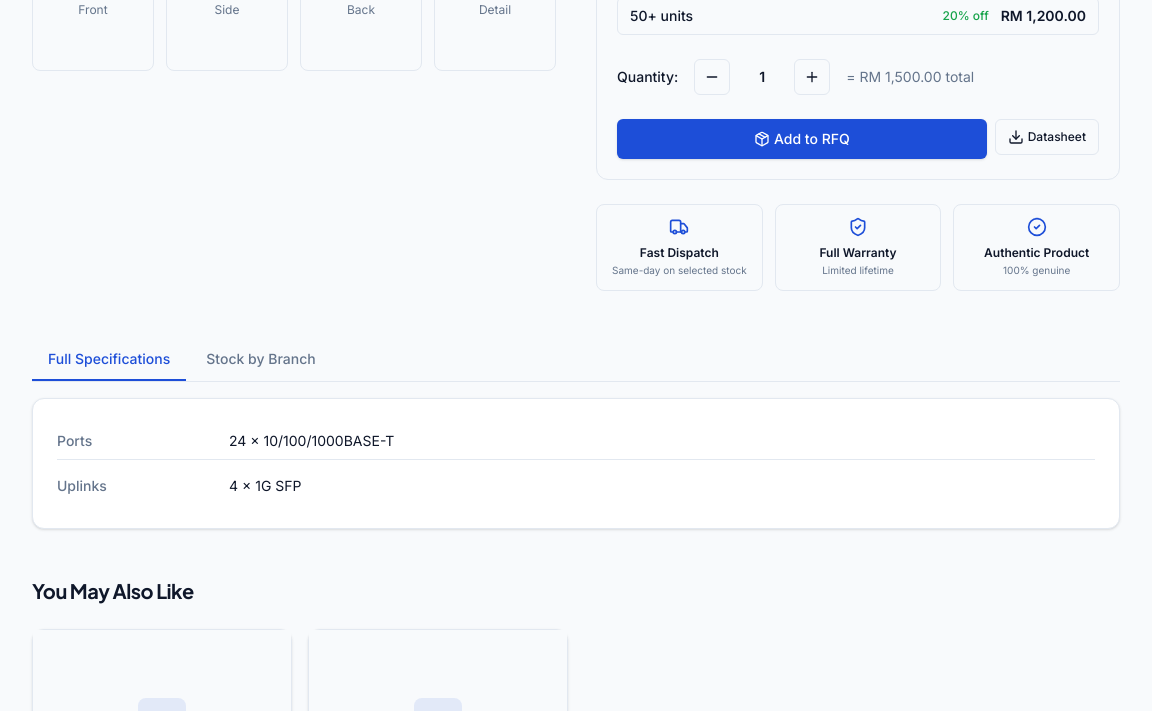
ProductDetail › renders stock by branch tab
The image size is (1152, 711).
(page scrolled)
Click on Stock by Branch tab
Click the button "Stock by Branch".
click(261, 360)  # box [190,339,332,381]
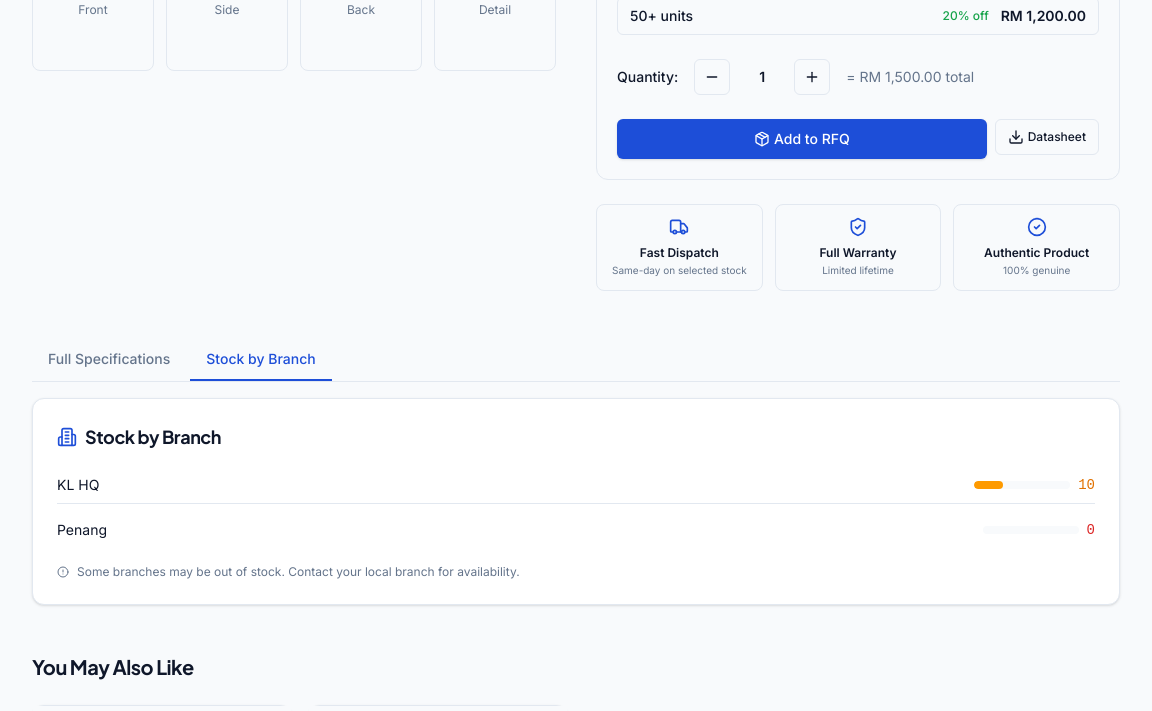
Check: the text "KL HQ" is shown, box [57,475,99,495]
Check: the text "Penang" is shown, box [57,520,107,540]
